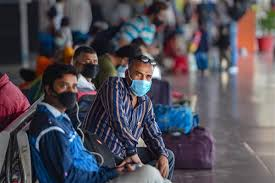mask: (128, 57, 153, 96), (55, 71, 80, 107), (80, 53, 101, 80)
